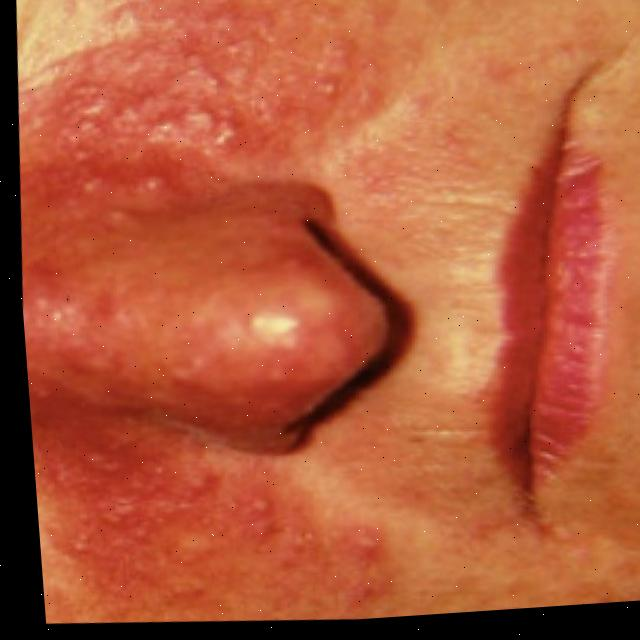Rosacea: (1, 0, 377, 639)
